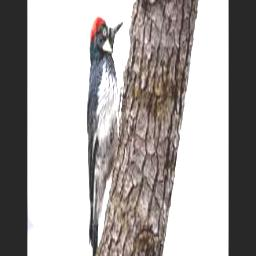Woodpecker: (87, 15, 124, 256)
